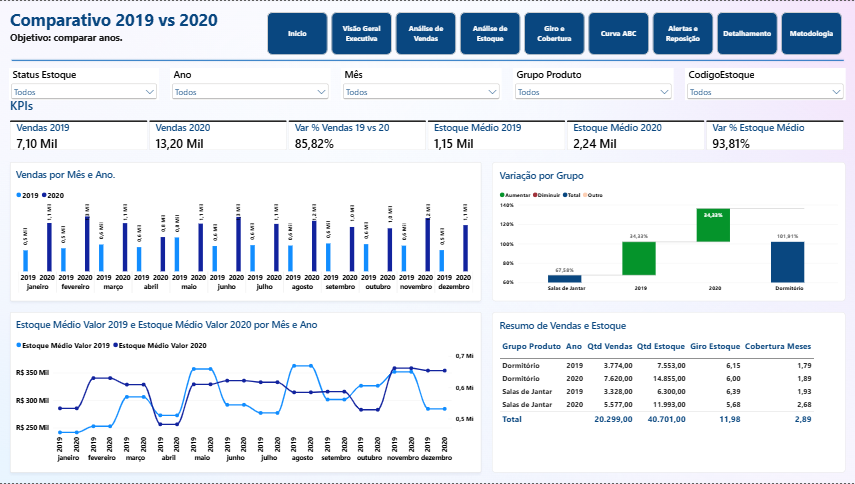

Layout of this report page (visuals, bound fields, positions):
{"tool":"powerbi","page":{"name":"Comparativo 2019 vs 2020","canvas":[1920,1080],"ordinal":6},"visuals":[{"type":"textbox","box":[24,0,552,120],"z":0},{"type":"pageNavigator","title":"Áreas de Análise:","box":[600,24,1296,96],"z":1000},{"type":"shape","box":[24,120,1872,24],"z":2000},{"type":"cardVisual","title":"KPIs","fields":{"Data":["Medidas.Vendas 2019","Medidas.Vendas 2020","Medidas.Var % Vendas 2020 vs 2019","Medidas.Estoque Médio 2019","Medidas.Estoque Médio 2020","Medidas.Var % Estoque Médio"]},"box":[24,216,1872,120],"z":3000},{"type":"clusteredColumnChart","title":"Vendas por Mês e Ano.","fields":{"Category":["dCalendario.Mês","dCalendario.Ano"],"Series":["dCalendario.Ano"],"Y":["Medidas.Qtd Vendas"]},"box":[24,360,1056,312],"z":4000},{"type":"lineChart","title":"Estoque Médio Valor 2019 e Estoque Médio Valor 2020 por Mês e Ano","fields":{"Category":["dCalendario.Mês","dCalendario.Ano"],"Y":["Medidas.Estoque Médio Valor 2019"],"Y2":["Medidas.Estoque Médio Valor 2020"]},"box":[24,696,1056,360],"z":5000},{"type":"waterfallChart","title":"Variação por Grupo","fields":{"Breakdown":["dCalendario.Ano"],"Category":["dGrupoProduto.Grupo Produto"],"Y":["Medidas.Var % Vendas 2020 vs 2019"]},"box":[1104,360,792,312],"z":6000},{"type":"tableEx","title":"Resumo de Vendas e Estoque","fields":{"Values":["dGrupoProduto.Grupo Produto","dCalendario.Ano","Medidas.Qtd Vendas","Medidas.Qtd Estoque","Medidas.Giro Estoque","Medidas.Cobertura Meses"]},"box":[1104,696,792,360],"z":7000},{"type":"slicer","fields":{"Values":["dCalendario.Ano"]},"box":[382.7,150,360,72],"z":8000},{"type":"slicer","fields":{"Values":["dCalendario.Mês"]},"box":[767.3,150,360,72],"z":9000},{"type":"slicer","fields":{"Values":["dGrupoProduto.Grupo Produto"]},"box":[1151.9,150,360,72],"z":10000},{"type":"slicer","fields":{"Values":["dEstoque.CodigoEstoque"]},"box":[1536.5,150,360,72],"z":11000},{"type":"slicer","fields":{"Values":["dProduto.Status Estoque (coluna)"]},"box":[22,150,336,72],"z":12000}]}

Visuals, with their boxes in screenshot pixels (x1, y1, x2, y2), scaled from the page's 1920x1080 canvas onto the 855x484 screenshot:
textbox: 11,0,256,54
"Áreas de Análise:" pageNavigator: 267,11,844,54
shape: 11,54,844,65
"KPIs" cardVisual: 11,97,844,151
"Vendas por Mês e Ano." clusteredColumnChart: 11,161,481,301
"Estoque Médio Valor 2019 e Estoque Médio Valor 2020 por Mês e Ano" lineChart: 11,312,481,473
"Variação por Grupo" waterfallChart: 492,161,844,301
"Resumo de Vendas e Estoque" tableEx: 492,312,844,473
slicer - dCalendario.Ano: 170,67,331,99
slicer - dCalendario.Mês: 342,67,502,99
slicer - dGrupoProduto.Grupo Produto: 513,67,673,99
slicer - dEstoque.CodigoEstoque: 684,67,845,99
slicer - dProduto.Status Estoque (coluna): 10,67,159,99
